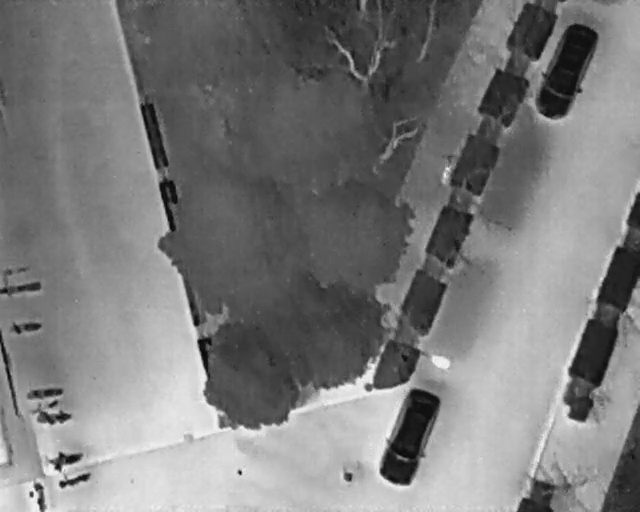Bicycle: (43, 443, 86, 476), (55, 466, 94, 492), (25, 394, 62, 419), (8, 316, 44, 337), (24, 384, 64, 402), (0, 282, 44, 296), (36, 410, 73, 426), (28, 482, 48, 510)
Car: (525, 13, 607, 127), (369, 380, 451, 494)
Person: (440, 168, 449, 188)
